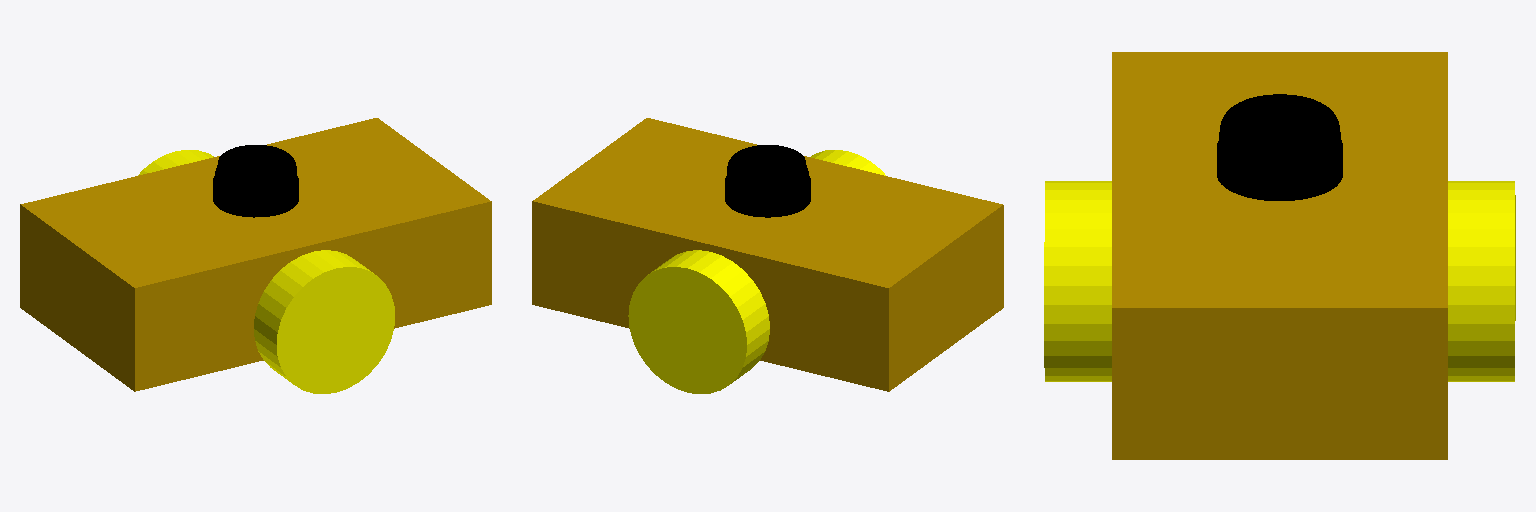
URDF robot description (my_bot_3):
<?xml version="1.0"?>
<robot name="my_bot_3">

    <material name="yellow_light">
        <color rgba="1.0 1.0 0.0 0.7"/>
    </material>

    <material name ='wooden'>
        <color rgba='0.76 0.60 0.024 1'/>
    </material>

    <material name ='black'>
        <color rgba='0.0 0.0 0.0 1'/>
    </material>

    <link name="base_link">
    </link>

    <link name="base_footprint">
    </link>
    
    <joint name="footprint_joint" type="fixed">
        <parent link="base_link"/>
        <child link="base_footprint"/>
        <origin xyz="0 0 0" rpy="0 0 0"/>
    </joint>

    <!-- B O D Y -->
    <link name="chassis">
        <visual>
            <geometry>
                <box size="0.3 0.54 0.15"/>
            </geometry>
            <material name="wooden"/>
        </visual>

        <collision>
            <geometry>
                <box size="0.3 0.54 0.15"/>
            </geometry>
        </collision>

        <inertial>
            <mass value="0.1"/>
            <origin rpy="0 0 0" xyz="0 0 0"/>
            <inertia ixx=" 0.0026175000000000005" ixy="0" ixz="0" iyy="0.0009375" iyz="0" izz="0.004860000000000001"/>
        </inertial>

    </link>

    <joint name="base_link_joint" type="fixed">
        <origin rpy="0 0 1.57" xyz="0 0 0" />
        <parent link="base_link" />
        <child link="chassis" />
    </joint>

    <!-- Wheel Left -->
    <link name="left_wheel">
        <visual>
            <origin rpy="0 1.5707 0" xyz="0 0 0"/>
            <geometry>
                <cylinder length="0.06" radius="0.09"/>
            </geometry>
            <material name="yellow_light"/>
        </visual>

        <collision>
            <origin rpy="0 1.5707 0" xyz="0 0 0"/>
            <geometry>
                <cylinder length="0.06" radius="0.09"/>
            </geometry>
        </collision>

        <inertial>
            <origin rpy="0 1.5707 0" xyz="0 0 0"/>
            <mass value="0.1"/>
            <inertia ixx="0.00023250000000000004" ixy="0" ixz="0" iyy="0.00023250000000000004" iyz="0" izz="0.000405"/>
        </inertial>
    </link>
    
    <gazebo reference="left_wheel">
        <kp>100000000000000000000.0</kp>
        <kd>100000000000000000000.0</kd>
        <mu1>10</mu1>
        <mu2>10</mu2>
        <material>Gazebo/Black</material>
    </gazebo>

    <joint name="joint_left_wheel" type="continuous">
        <origin rpy="0 0 0" xyz="0.18 0 -0.025"/>
        <child link="left_wheel"/>
        <parent link="chassis"/>
        <axis rpy="0 0 0" xyz="1 0 0"/>
        <limit effort="10000" velocity="1000"/>
        <joint_properties damping="1.0" friction="1.0"/>
    </joint>

    <!-- Wheel Right -->
    <link name="right_wheel">
        <visual>
            <origin rpy="0 1.5707 0" xyz="0 0 0"/>
            <geometry>
                <cylinder length="0.06" radius="0.09"/>
            </geometry>
            <material name="yellow_light"/>
        </visual>

        <collision>
            <origin rpy="0 1.5707 0" xyz="0 0 0"/>
            <geometry>
                <cylinder length="0.06" radius="0.09"/>
            </geometry>
        </collision>

        <inertial>
            <origin rpy="0 1.5707 0" xyz="0 0 0"/>
            <mass value="0.1"/>
            <inertia ixx="0.00023250000000000004" ixy="0" ixz="0" iyy="0.00023250000000000004" iyz="0" izz="0.000405"/>
        </inertial>
    </link>

    <gazebo reference="right_wheel">
        <kp>100000000000000000000.0</kp>
        <kd>100000000000000000000.0</kd>
        <mu1>10</mu1>
        <mu2>10</mu2>
        <material>Gazebo/Black</material>
    </gazebo>

    <joint name="joint_right_wheel" type="continuous">
        <origin rpy="0 0 0" xyz="-0.18 0 -0.025"/>
        <child link="right_wheel"/>
        <parent link="chassis"/>
        <axis rpy="0 0 0" xyz="1 0 0"/>
        <limit effort="10000" velocity="1000"/>
        <joint_properties damping="1.0" friction="1.0"/>
    </joint>

    <!-- Caster Wheel Front -->
    <link name="front_yaw_link">
        <visual>
            <origin rpy="0 1.5707 1.5707" xyz="0 0 0"/>
            <geometry>
              <cylinder length="0.005" radius="0.04"/>
            </geometry>
            <material name="wooden"/>
        </visual>

        <collision>
            <origin rpy="0 1.5707 1.5707" xyz="0 0 0"/>
            <geometry>
                <cylinder length="0.005" radius="0.04"/>
            </geometry>
        </collision>

        <inertial>
            <origin rpy="0 1.5707 1.5707" xyz="0 0 0"/>
            <mass value="0.001"/>
            <inertia ixx="4.020833333333333e-07" ixy="0" ixz="0" iyy="4.020833333333333e-07" iyz="0" izz="8.000000000000001e-07"/>
        </inertial>
    </link>

    <joint name="front_yaw_joint" type="continuous">
        <origin rpy="0 0 0" xyz="0 -0.15 -0.075"/>
        <parent link="chassis" />
        <child link="front_yaw_link" />
        <axis xyz="0 0 1" />
        <limit effort="1000.0" velocity="100.0" />
        <dynamics damping="0.0" friction="0.1"/>
    </joint>

    <gazebo reference="front_yaw_link">
        <material>Gazebo/Purple</material>
    </gazebo>

    <link name="front_roll_link">
        <visual>
            <origin rpy="0 1.5707 1.5707" xyz="0 0 0"/>
            <geometry>
                <cylinder length="0.005" radius="0.04"/>
            </geometry>
            <material name="wooden"/>
        </visual>

        <collision>
            <origin rpy="0 1.5707 1.5707" xyz="0 0 0"/>
            <geometry>
                <cylinder length="0.005" radius="0.04"/>
            </geometry>
        </collision>

        <inertial>
            <origin rpy="0 1.5707 1.5707" xyz="0 0 0"/>
            <mass value="0.001"/>
            <inertia ixx="4.020833333333333e-07" ixy="0" ixz="0" iyy="4.020833333333333e-07" iyz="0" izz="8.000000000000001e-07"/>
        </inertial>
    </link>

    <joint name="front_roll_joint" type="continuous">
        <origin rpy="0 0 0" xyz="0 0 0" />
        <parent link="front_yaw_link" />
        <child link="front_roll_link" />
        <axis xyz="1 0 0" />
        <limit effort="1000.0" velocity="100.0" />
        <dynamics damping="0.0" friction="0.1"/>
    </joint>
        
    <gazebo reference="front_roll_link">
        <material>Gazebo/Purple</material>
    </gazebo>

    <link name="front_pitch_link">
        <visual>
            <origin rpy="0 1.5707 1.5707" xyz="0 0 0"/>
            <geometry>
                <sphere radius="0.04"/>
            </geometry>
            <material name="wooden"/>
        </visual>

        <collision>
            <origin rpy="0 1.5707 1.5707" xyz="0 0 0"/>
            <geometry>
                <sphere radius="0.04"/>
            </geometry>
        </collision>

        <inertial>
            <origin rpy="0 1.5707 1.5707" xyz="0 0 0"/>
            <mass value="0.001"/>
            <inertia ixx="6.4e-07" ixy="0" ixz="0" iyy="6.4e-07" iyz="0" izz="6.4e-07"/>
        </inertial>
    </link>

    <gazebo reference="front_pitch_link">
        <kp>100000000000000.0</kp>
        <kd>100000000000000.0</kd>
        <mu1>0.5</mu1>
        <mu2>0.5</mu2>
        <material>Gazebo/Purple</material>
    </gazebo>

    <joint name="front_pitch_joint" type="continuous">
        <origin rpy="0 0 0" xyz="0 0 0" />
        <parent link="front_roll_link" />
        <child link="front_pitch_link" />
        <axis xyz="0 1 0" />
        <limit effort="1000.0" velocity="100.0" />
        <dynamics damping="0.0" friction="0.1"/>
    </joint>

    <!-- Caster Wheel Back -->
    <link name="back_yaw_link">
        <visual>
            <origin rpy="0 1.5707 1.5707" xyz="0 0 0"/>
            <geometry>
              <cylinder length="0.005" radius="0.04"/>
            </geometry>
            <material name="wooden"/>
        </visual>

        <collision>
            <origin rpy="0 1.5707 1.5707" xyz="0 0 0"/>
            <geometry>
                <cylinder length="0.005" radius="0.04"/>
            </geometry>
        </collision>

        <inertial>
            <origin rpy="0 1.5707 1.5707" xyz="0 0 0"/>
            <mass value="0.001"/>
            <inertia ixx="4.020833333333333e-07" ixy="0" ixz="0" iyy="4.020833333333333e-07" iyz="0" izz="8.000000000000001e-07"/>
        </inertial>
    </link>

    <joint name="back_yaw_joint" type="continuous">
        <origin rpy="0 0 0" xyz="0 0.15 -0.075"/>
        <parent link="chassis" />
        <child link="back_yaw_link" />
        <axis xyz="0 0 1" />
        <limit effort="1000.0" velocity="100.0" />
        <dynamics damping="0.0" friction="0.1"/>
    </joint>

    <gazebo reference="back_yaw_link">
        <material>Gazebo/Purple</material>
    </gazebo>

    <link name="back_roll_link">
        <visual>
            <origin rpy="0 1.5707 1.5707" xyz="0 0 0"/>
            <geometry>
                <cylinder length="0.005" radius="0.04"/>
            </geometry>
            <material name="wooden"/>
        </visual>

        <collision>
            <origin rpy="0 1.5707 1.5707" xyz="0 0 0"/>
            <geometry>
                <cylinder length="0.005" radius="0.04"/>
            </geometry>
        </collision>

        <inertial>
            <origin rpy="0 1.5707 1.5707" xyz="0 0 0"/>
            <mass value="0.001"/>
            <inertia ixx="4.020833333333333e-07" ixy="0" ixz="0" iyy="4.020833333333333e-07" iyz="0" izz="8.000000000000001e-07"/>
        </inertial>
    </link>

    <joint name="back_roll_joint" type="continuous">
        <origin rpy="0 0 0" xyz="0 0 0"/>
        <parent link="back_yaw_link"/>
        <child link="back_roll_link"/>
        <axis xyz="1 0 0" />
        <limit effort="1000.0" velocity="100.0" />
        <dynamics damping="0.0" friction="0.1"/>
    </joint>
        
    <gazebo reference="back_roll_link">
        <material>Gazebo/Purple</material>
    </gazebo>

    <link name="back_pitch_link">
        <visual>
            <origin rpy="0 1.5707 1.5707" xyz="0 0 0"/>
            <geometry>
                <sphere radius="0.04"/>
            </geometry>
            <material name="wooden"/>
        </visual>

        <collision>
            <origin rpy="0 1.5707 1.5707" xyz="0 0 0"/>
            <geometry>
                <sphere radius="0.04"/>
            </geometry>
        </collision>

        <inertial>
            <origin rpy="0 1.5707 1.5707" xyz="0 0 0"/>
            <mass value="0.001"/>
            <inertia ixx="6.4e-07" ixy="0" ixz="0" iyy="6.4e-07" iyz="0" izz="6.4e-07"/>
        </inertial>
    </link>

    <gazebo reference="back_pitch_link">
        <kp>100000000000000.0</kp>
        <kd>100000000000000.0</kd>
        <mu1>0.5</mu1>
        <mu2>0.5</mu2>
        <material>Gazebo/Purple</material>
    </gazebo>

    <joint name="back_pitch_joint" type="continuous">
        <origin rpy="0 0 0" xyz="0 0 0" />
        <parent link="back_roll_link" />
        <child link="back_pitch_link" />
        <axis xyz="0 1 0" />
        <limit effort="1000.0" velocity="100.0" />
        <dynamics damping="0.0" friction="0.1"/>
    </joint>

    <!-- R E A L S E N S E   P L U G I N-->

    <!-- L A S E R -->
    <link name="laser_frame">
        <visual>
            <geometry>
                <mesh filename="package://multibot/meshes/sensors/rplidar.dae" scale="1.5 1.5 1.5"/>
            </geometry>
            <material name="black"/>
        </visual>
        <collision>
            <geometry>
                <cylinder radius="0.08" length="0.05"/>
            </geometry>
        </collision>
        <inertial>
            <origin xyz="0 0 0.075" rpy="0 0 0"/>
            <mass value="0.1"/>
            <inertia ixx="0.0001808333333333333" ixy="0" ixz="0" iyy="0.0001808333333333333" iyz="0" izz="0.00032"/>
        </inertial>
    </link>

    <joint name="laser_joint" type="fixed">
        <parent link="chassis"/>
        <child link="laser_frame"/>
        <origin xyz="0 0 0.08" rpy="0 0 1.57"/>
    </joint>

    <gazebo reference="laser_frame">
        <material>Gazebo/Black</material>
        <sensor name="laser" type="ray">
            <pose> 0 0 0 0 0 0 </pose>
            <visualize>false</visualize>
            <update_rate>30</update_rate>
            <ray>
                <scan>
                    <horizontal>
                        <samples>360</samples>
                        <min_angle>-3.14</min_angle>
                        <max_angle>3.14</max_angle>
                    </horizontal>
                </scan>
                <range>
                    <min>0.3</min>
                    <max>12</max>
                </range>
            </ray>
            <plugin name="laser_controller_3" filename="libgazebo_ros_ray_sensor.so">
                <ros>
                    <remapping>~/out:=scan</remapping>
                    <namespace>/bot_3</namespace>
                </ros>
                <output_type>sensor_msgs/LaserScan</output_type>
                <frame_name>bot_3/laser_frame</frame_name>
            </plugin>
        </sensor>
    </gazebo>

    <!-- PLUGINS -->
    <!-- JOINT PUBLISHER -->
    <gazebo>
        <plugin name="multibot_joint_state_3" filename="libgazebo_ros_joint_state_publisher.so">
            <ros>
                <remapping>~/out:=joint_states</remapping>
                <namespace>/bot_3</namespace>
            </ros>
            <update_rate>30</update_rate>

            <joint_name>joint_left_wheel</joint_name>
            <joint_name>joint_right_wheel</joint_name>
            <joint_name>front_yaw_joint</joint_name>
            <joint_name>back_yaw_joint</joint_name>
            <joint_name>front_roll_joint</joint_name>             
            <joint_name>back_roll_joint</joint_name>
            <joint_name>front_pitch_joint</joint_name>
            <joint_name>back_pitch_joint</joint_name>
        </plugin>
    </gazebo>

    <gazebo>
        <plugin name="differential_drive_controller_3" filename="libgazebo_ros_diff_drive.so">

            <!-- Wheel Information -->
            <namespace>/bot_3</namespace>
            <update_rate>30</update_rate>
            <left_joint>joint_left_wheel</left_joint>
            <right_joint>joint_right_wheel</right_joint>
            <wheel_separation>0.36</wheel_separation>
            <wheel_diameter>0.18</wheel_diameter>
            <!-- Limits -->
            <max_wheel_torque>1.0</max_wheel_torque>
            <max_wheel_acceleration>1.0</max_wheel_acceleration>
            <!-- Output -->
            <command_topic>cmd_vel</command_topic>
            <publish_odom>true</publish_odom>
            <publish_odom_tf>true</publish_odom_tf>
            <odometry_frame>bot_3/odom</odometry_frame>
            <robot_base_frame>bot_3/base_link</robot_base_frame>
            <publish_wheel_tf>true</publish_wheel_tf>
        </plugin>
    </gazebo>

</robot>

--- What the picture shows (computed from the rendered views, not written in the file) ---
Views: 3 orthographic renders of the robot side by side, from view 1: azimuth 30°, elevation 25°; view 2: azimuth 150°, elevation 25°; view 3: azimuth 270°, elevation 25°.
Robot: my_bot_3 — 12 links, 11 joints (8 continuous, 3 fixed); root link base_link; default pose: all joints at 0.
Links seen in each view (by area): view 1: chassis, right_wheel, laser_frame, left_wheel; view 2: chassis, left_wheel, laser_frame, right_wheel; view 3: chassis, left_wheel, right_wheel, laser_frame.
Link boxes in pixels (left/top/right/bottom): chassis: left=20, top=118, right=491, bottom=391; right_wheel: left=254, top=250, right=394, bottom=393; laser_frame: left=213, top=145, right=298, bottom=217; left_wheel: left=138, top=150, right=213, bottom=175; chassis: left=532, top=118, right=1003, bottom=391; left_wheel: left=628, top=250, right=769, bottom=393; laser_frame: left=725, top=145, right=810, bottom=217; right_wheel: left=811, top=150, right=885, bottom=175; chassis: left=1112, top=52, right=1447, bottom=459; left_wheel: left=1448, top=181, right=1515, bottom=381; right_wheel: left=1044, top=181, right=1111, bottom=381; laser_frame: left=1217, top=94, right=1342, bottom=200.
Bounding box of the posed robot: 0.5402 × 0.4201 × 0.2562 m (x, y, z).
Meshes: 1 distinct files referenced, 1 mesh visuals loaded (1 Collada DAE).
